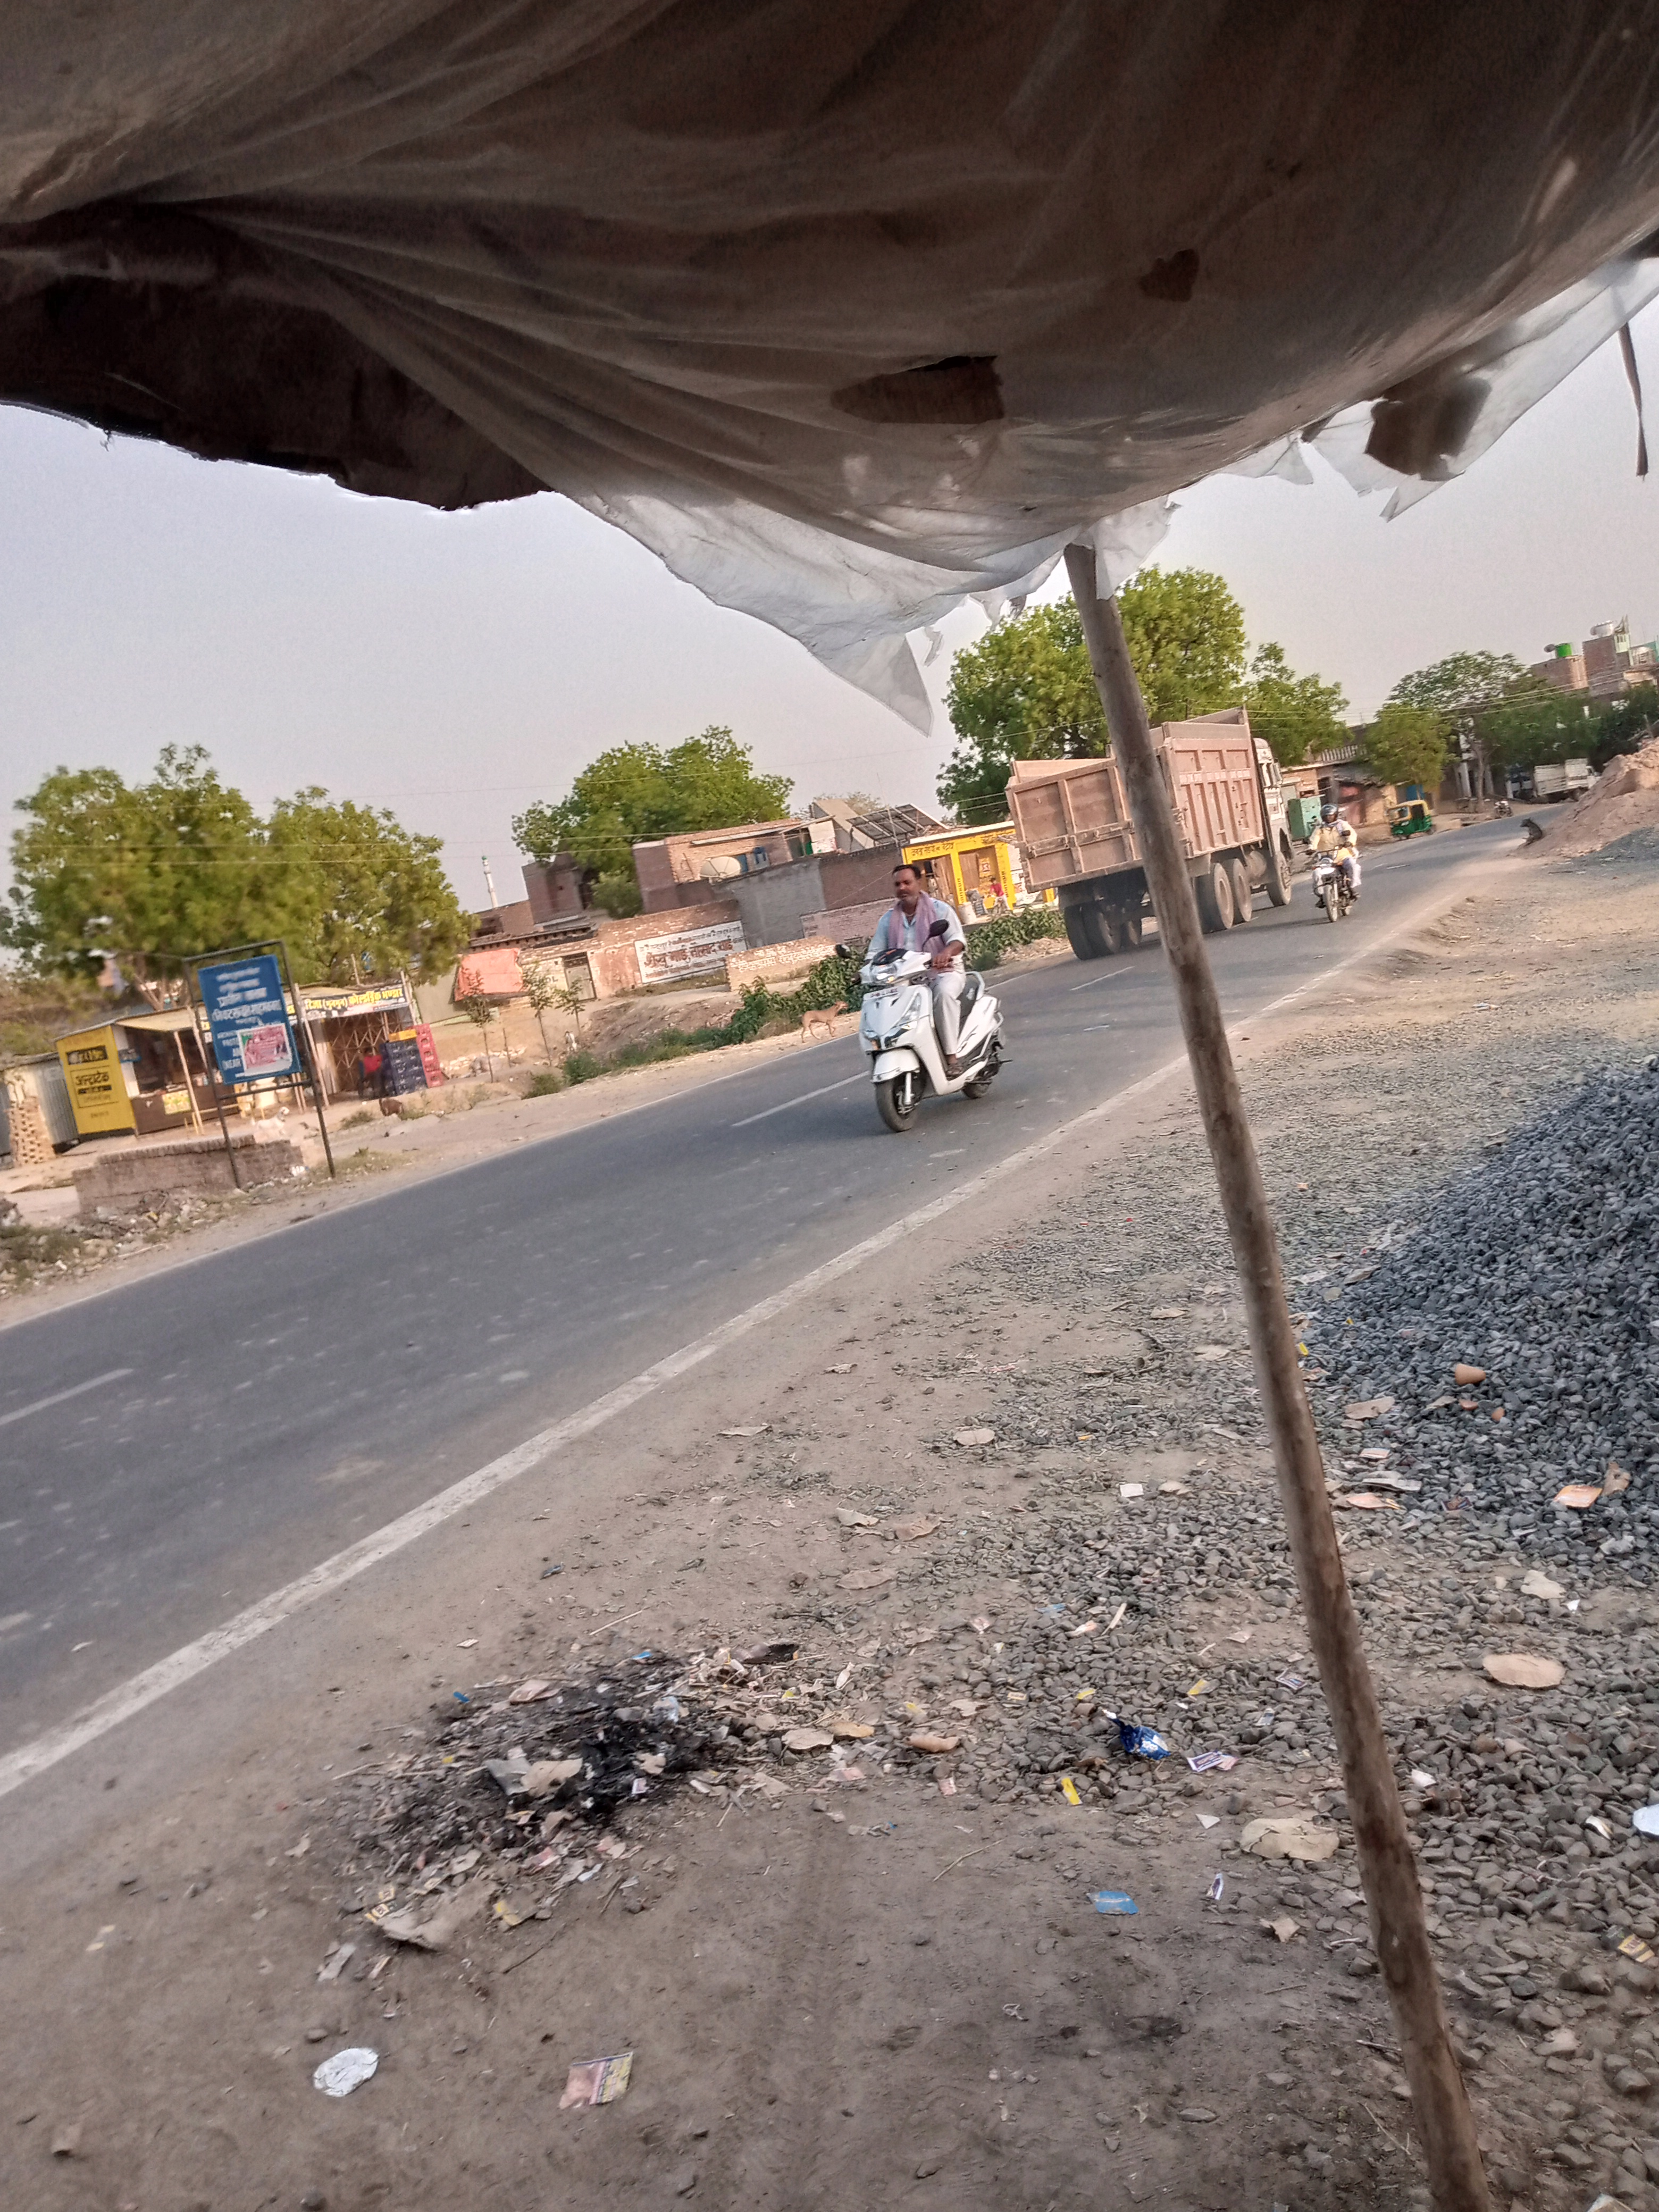truck: (1002, 702, 1295, 961)
